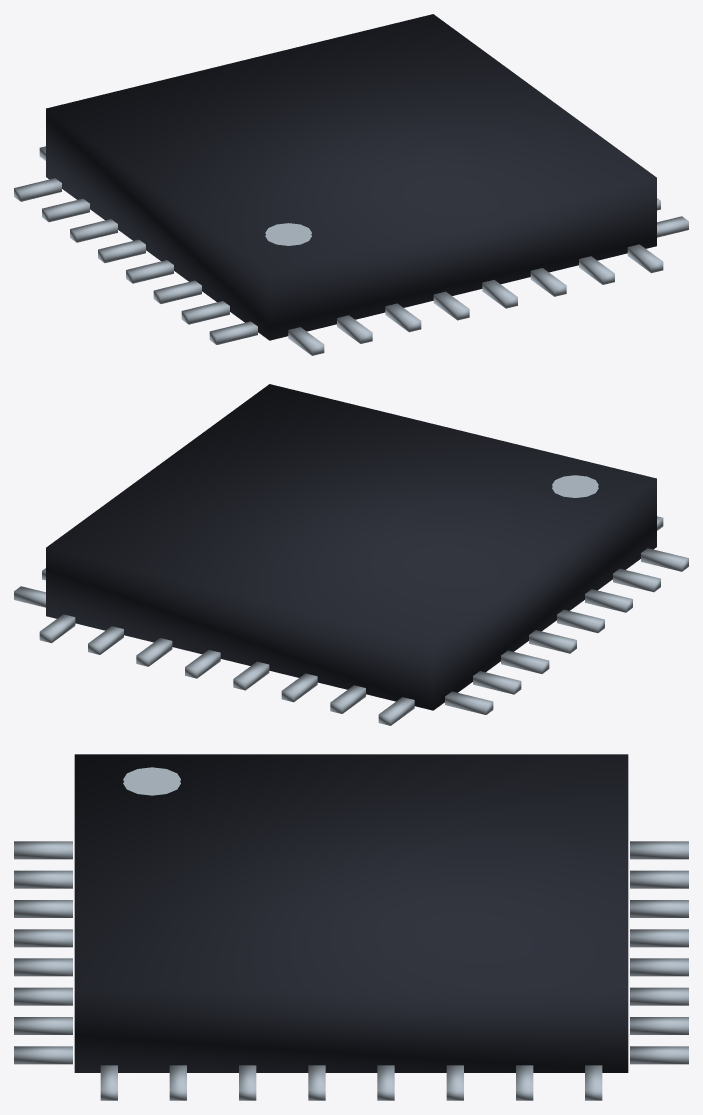
3 views of the same model, one above another, from view 1: azimuth 30°, elevation 25°; view 2: azimuth 150°, elevation 25°; view 3: azimuth 270°, elevation 25° (orthographic). The views are drawn at different scales.
Visible parts, largest first — view 1: L104_U8_chip, L104_U8_silver; view 2: L104_U8_chip, L104_U8_silver; view 3: L104_U8_chip, L104_U8_silver.
Part boxes in pixels (x1=…): L104_U8_chip: x1=46, y1=14, x2=656, y2=340; L104_U8_silver: x1=14, y1=146, x2=688, y2=355; L104_U8_chip: x1=46, y1=384, x2=656, y2=710; L104_U8_silver: x1=14, y1=475, x2=688, y2=725; L104_U8_chip: x1=74, y1=754, x2=628, y2=1072; L104_U8_silver: x1=14, y1=767, x2=688, y2=1100.
Bounding box in the file's own units: 0.00975 × 0.00147 × 0.00975.
